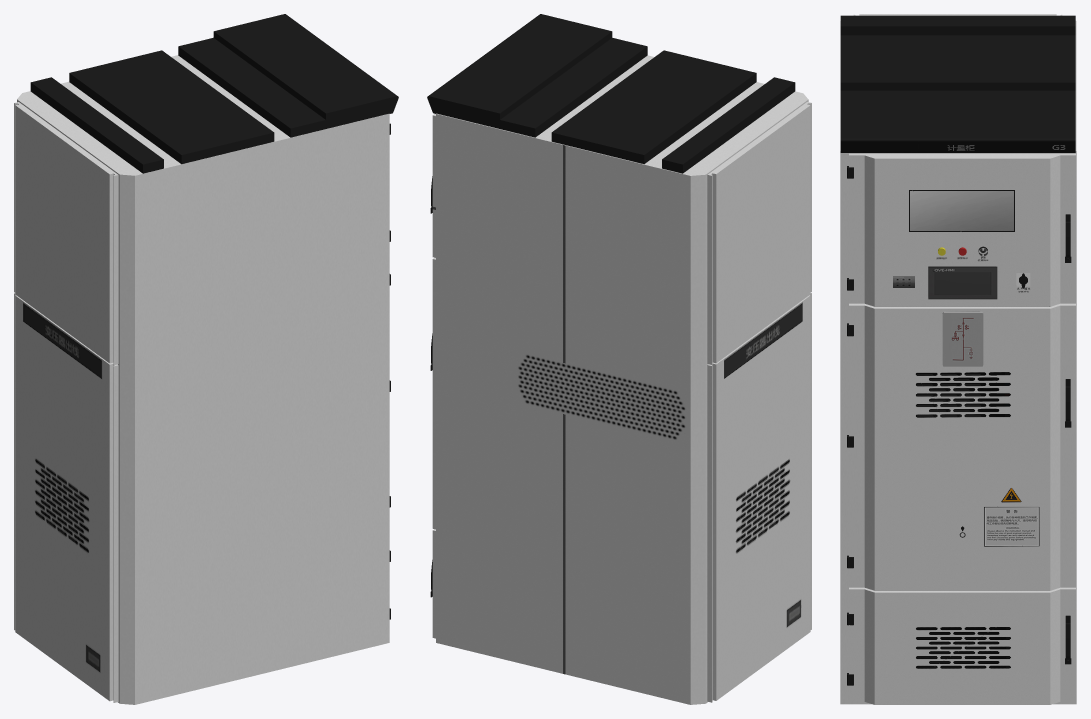
Rendered from jilianggui.FBX.
3 renders of one model, left to right at view 1: azimuth 30°, elevation 25°; view 2: azimuth 150°, elevation 25°; view 3: azimuth 270°, elevation 25°, orthographic. The views are drawn at different scales.
Parts seen in each view (by area): view 1: P8; view 2: P8; view 3: P8.
Boxes of the visible parts, <box> form: P8: <box>14,14,398,704</box>; P8: <box>427,14,811,704</box>; P8: <box>840,14,1076,704</box>.
Size of the model in its own units: 1.19 by 2.19 by 0.823.
1 material, 1 textured.
